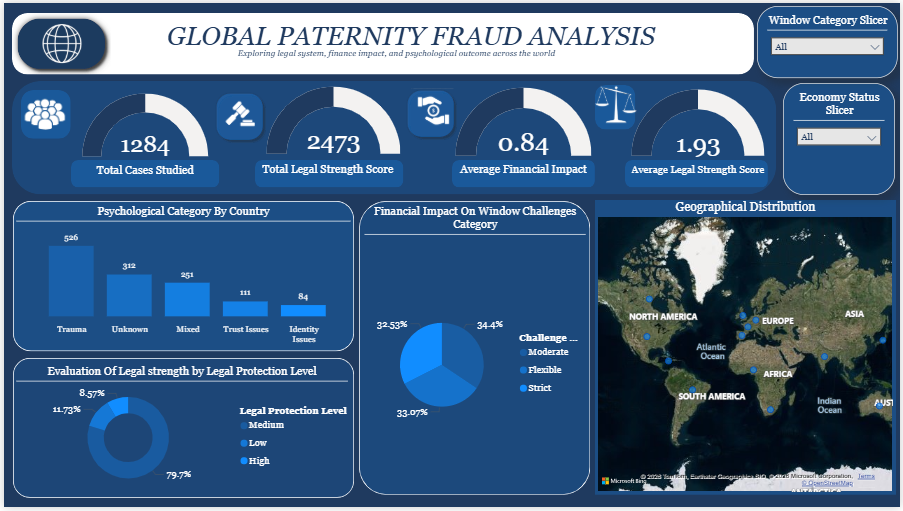

The dashboard page shown, as its layout file describes it:
{"tool":"powerbi","page":{"name":"Dashboard2","canvas":[1280,720],"ordinal":5},"visuals":[{"type":"shape","box":[12.1,13.6,1059.9,87.8],"z":0},{"type":"shape","box":[12.1,112.1,1091.7,162],"z":1000},{"type":"gauge","fields":{"Y":["Master_table.Cases by Country"]},"box":[95.4,124.2,212,99.9],"z":2000},{"type":"shape","box":[95.4,224.1,212,39.4],"z":3000},{"type":"shape","box":[24.2,124.2,71.2,69.7],"z":4000},{"type":"image","box":[12.1,130.2,93.9,57.5],"z":5000},{"type":"gauge","fields":{"Y":["Sum(Master_table.Legal strength score)"]},"box":[369.5,112.1,201.4,112.1],"z":6000},{"type":"shape","box":[358.9,224.1,212,39.4],"z":7000},{"type":"gauge","fields":{"Y":["Master_table.% High Financial Impact"]},"box":[640.5,115.1,204.4,107.5],"z":8000},{"type":"shape","box":[298.3,124.2,76.2,76.2],"z":8000,"group":"g1"},{"type":"shape","box":[640.5,224.1,204.4,39.4],"z":9000},{"type":"shape","box":[12.4,506.5,487.2,199.6],"z":10000},{"type":"shape","box":[570.9,119.6,76.2,76.2],"z":11000,"group":"g2"},{"type":"shape","box":[12.4,282.2,487.2,214.7],"z":11000},{"type":"shape","box":[506.5,282.2,330.3,419.8],"z":12000},{"type":"image","box":[580.2,118.7,63.6,69.7],"z":13000,"group":"g2"},{"type":"pieChart","title":" Financial Impact On Window Challenges Category","fields":{"Category":["Master_table.Challenge Window Category"],"Y":["Master_table.% High Financial Impact"]},"box":[510.6,287.7,326.2,414.3],"z":13000},{"type":"image","box":[309.5,127.8,55.5,59.1],"z":14000,"group":"g1"},{"type":"clusteredColumnChart","title":" Psychological Category By Country","fields":{"Category":["Master_table.Psychological Category"],"Y":["Master_table.Cases by Country"]},"box":[12.4,287.7,487.2,206.5],"z":14000},{"type":"donutChart","title":"Evaluation Of Legal strength  by Legal Protection Level","fields":{"Category":["Master_table.Legal Protection Level"],"Y":["Sum(Master_table.Legal strength score)"]},"box":[12.4,516.1,483.1,184.4],"z":15000},{"type":"gauge","fields":{"Y":["Avg(Master_table.Legal strength score)"]},"box":[891.9,116.6,199.9,107.5],"z":16000},{"type":"shape","box":[887.3,224.1,204.4,39.4],"z":17000},{"type":"shape","box":[844.9,116.6,57.5,63.6],"z":18000},{"type":"group","id":"g1","title":"Group 2","box":[298.3,124.2,77.2,75.7],"z":19000},{"type":"group","id":"g2","title":"Group 1","box":[570.9,118.7,76.2,77.2],"z":20000},{"type":"image","box":[840.4,112.1,68.1,66.6],"z":21000},{"type":"slicer","title":"Window Category Slicer","fields":{"Values":["Master_table.Challenge Window Category"]},"box":[1075.1,4.5,201.4,103],"z":22000},{"type":"slicer","title":"Economy Status Slicer","fields":{"Values":["Master_table.Economic Category"]},"box":[1113.5,114.2,159.7,159.7],"z":23000},{"type":"textbox","box":[106,224.1,192.3,39.4],"z":24000},{"type":"textbox","box":[358.9,222.6,212,40.9],"z":25000},{"type":"textbox","box":[640.5,222.6,204.4,40.9],"z":26000},{"type":"textbox","box":[891.9,224.1,199.9,39.4],"z":27000},{"type":"shape","box":[12.1,13.6,140.8,87.8],"z":28000},{"type":"image","box":[34.8,21.2,96.9,72.7],"z":29000},{"type":"textbox","box":[168.1,21.2,834.3,57.5],"z":30000},{"type":"textbox","box":[307.4,57.5,507.3,36.3],"z":31000},{"type":"map","title":"Geographical Distribution","fields":{"Category":["Master_table.Country"]},"box":[844.9,281.6,430,420.9],"z":32000}]}

Visuals, with their boxes in screenshot pixels (x1, y1, x2, y2), scaled from the page's 1280x720 canvas onto the 903x511 screenshot:
shape: [9, 10, 756, 72]
shape: [9, 80, 779, 195]
gauge - Master_table.Cases by Country: [67, 88, 217, 159]
shape: [67, 159, 217, 187]
shape: [17, 88, 67, 138]
image: [9, 92, 75, 133]
gauge - Sum(Master_table.Legal strength score): [261, 80, 403, 159]
shape: [253, 159, 403, 187]
gauge - Master_table.% High Financial Impact: [452, 82, 596, 158]
shape: [210, 88, 264, 142]
shape: [452, 159, 596, 187]
shape: [9, 359, 352, 501]
shape: [403, 85, 457, 139]
shape: [9, 200, 352, 353]
shape: [357, 200, 590, 498]
image: [409, 84, 454, 134]
" Financial Impact On Window Challenges Category" pieChart: [360, 204, 590, 498]
image: [218, 91, 257, 133]
" Psychological Category By Country" clusteredColumnChart: [9, 204, 352, 351]
"Evaluation Of Legal strength  by Legal Protection Level" donutChart: [9, 366, 350, 497]
gauge - Avg(Master_table.Legal strength score): [629, 83, 770, 159]
shape: [626, 159, 770, 187]
shape: [596, 83, 637, 128]
"Group 2" group: [210, 88, 265, 142]
"Group 1" group: [403, 84, 457, 139]
image: [593, 80, 641, 127]
"Window Category Slicer" slicer: [758, 3, 901, 76]
"Economy Status Slicer" slicer: [786, 81, 898, 194]
textbox: [75, 159, 210, 187]
textbox: [253, 158, 403, 187]
textbox: [452, 158, 596, 187]
textbox: [629, 159, 770, 187]
shape: [9, 10, 108, 72]
image: [25, 15, 93, 67]
textbox: [119, 15, 707, 56]
textbox: [217, 41, 575, 67]
"Geographical Distribution" map: [596, 200, 899, 499]
